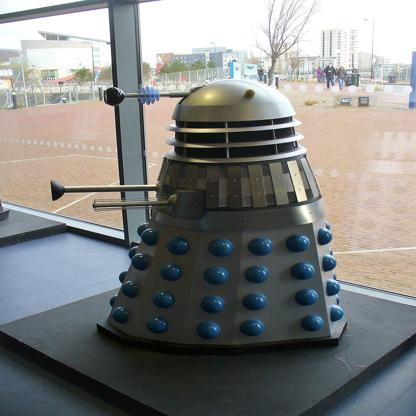dalek: (52, 56, 356, 377)
